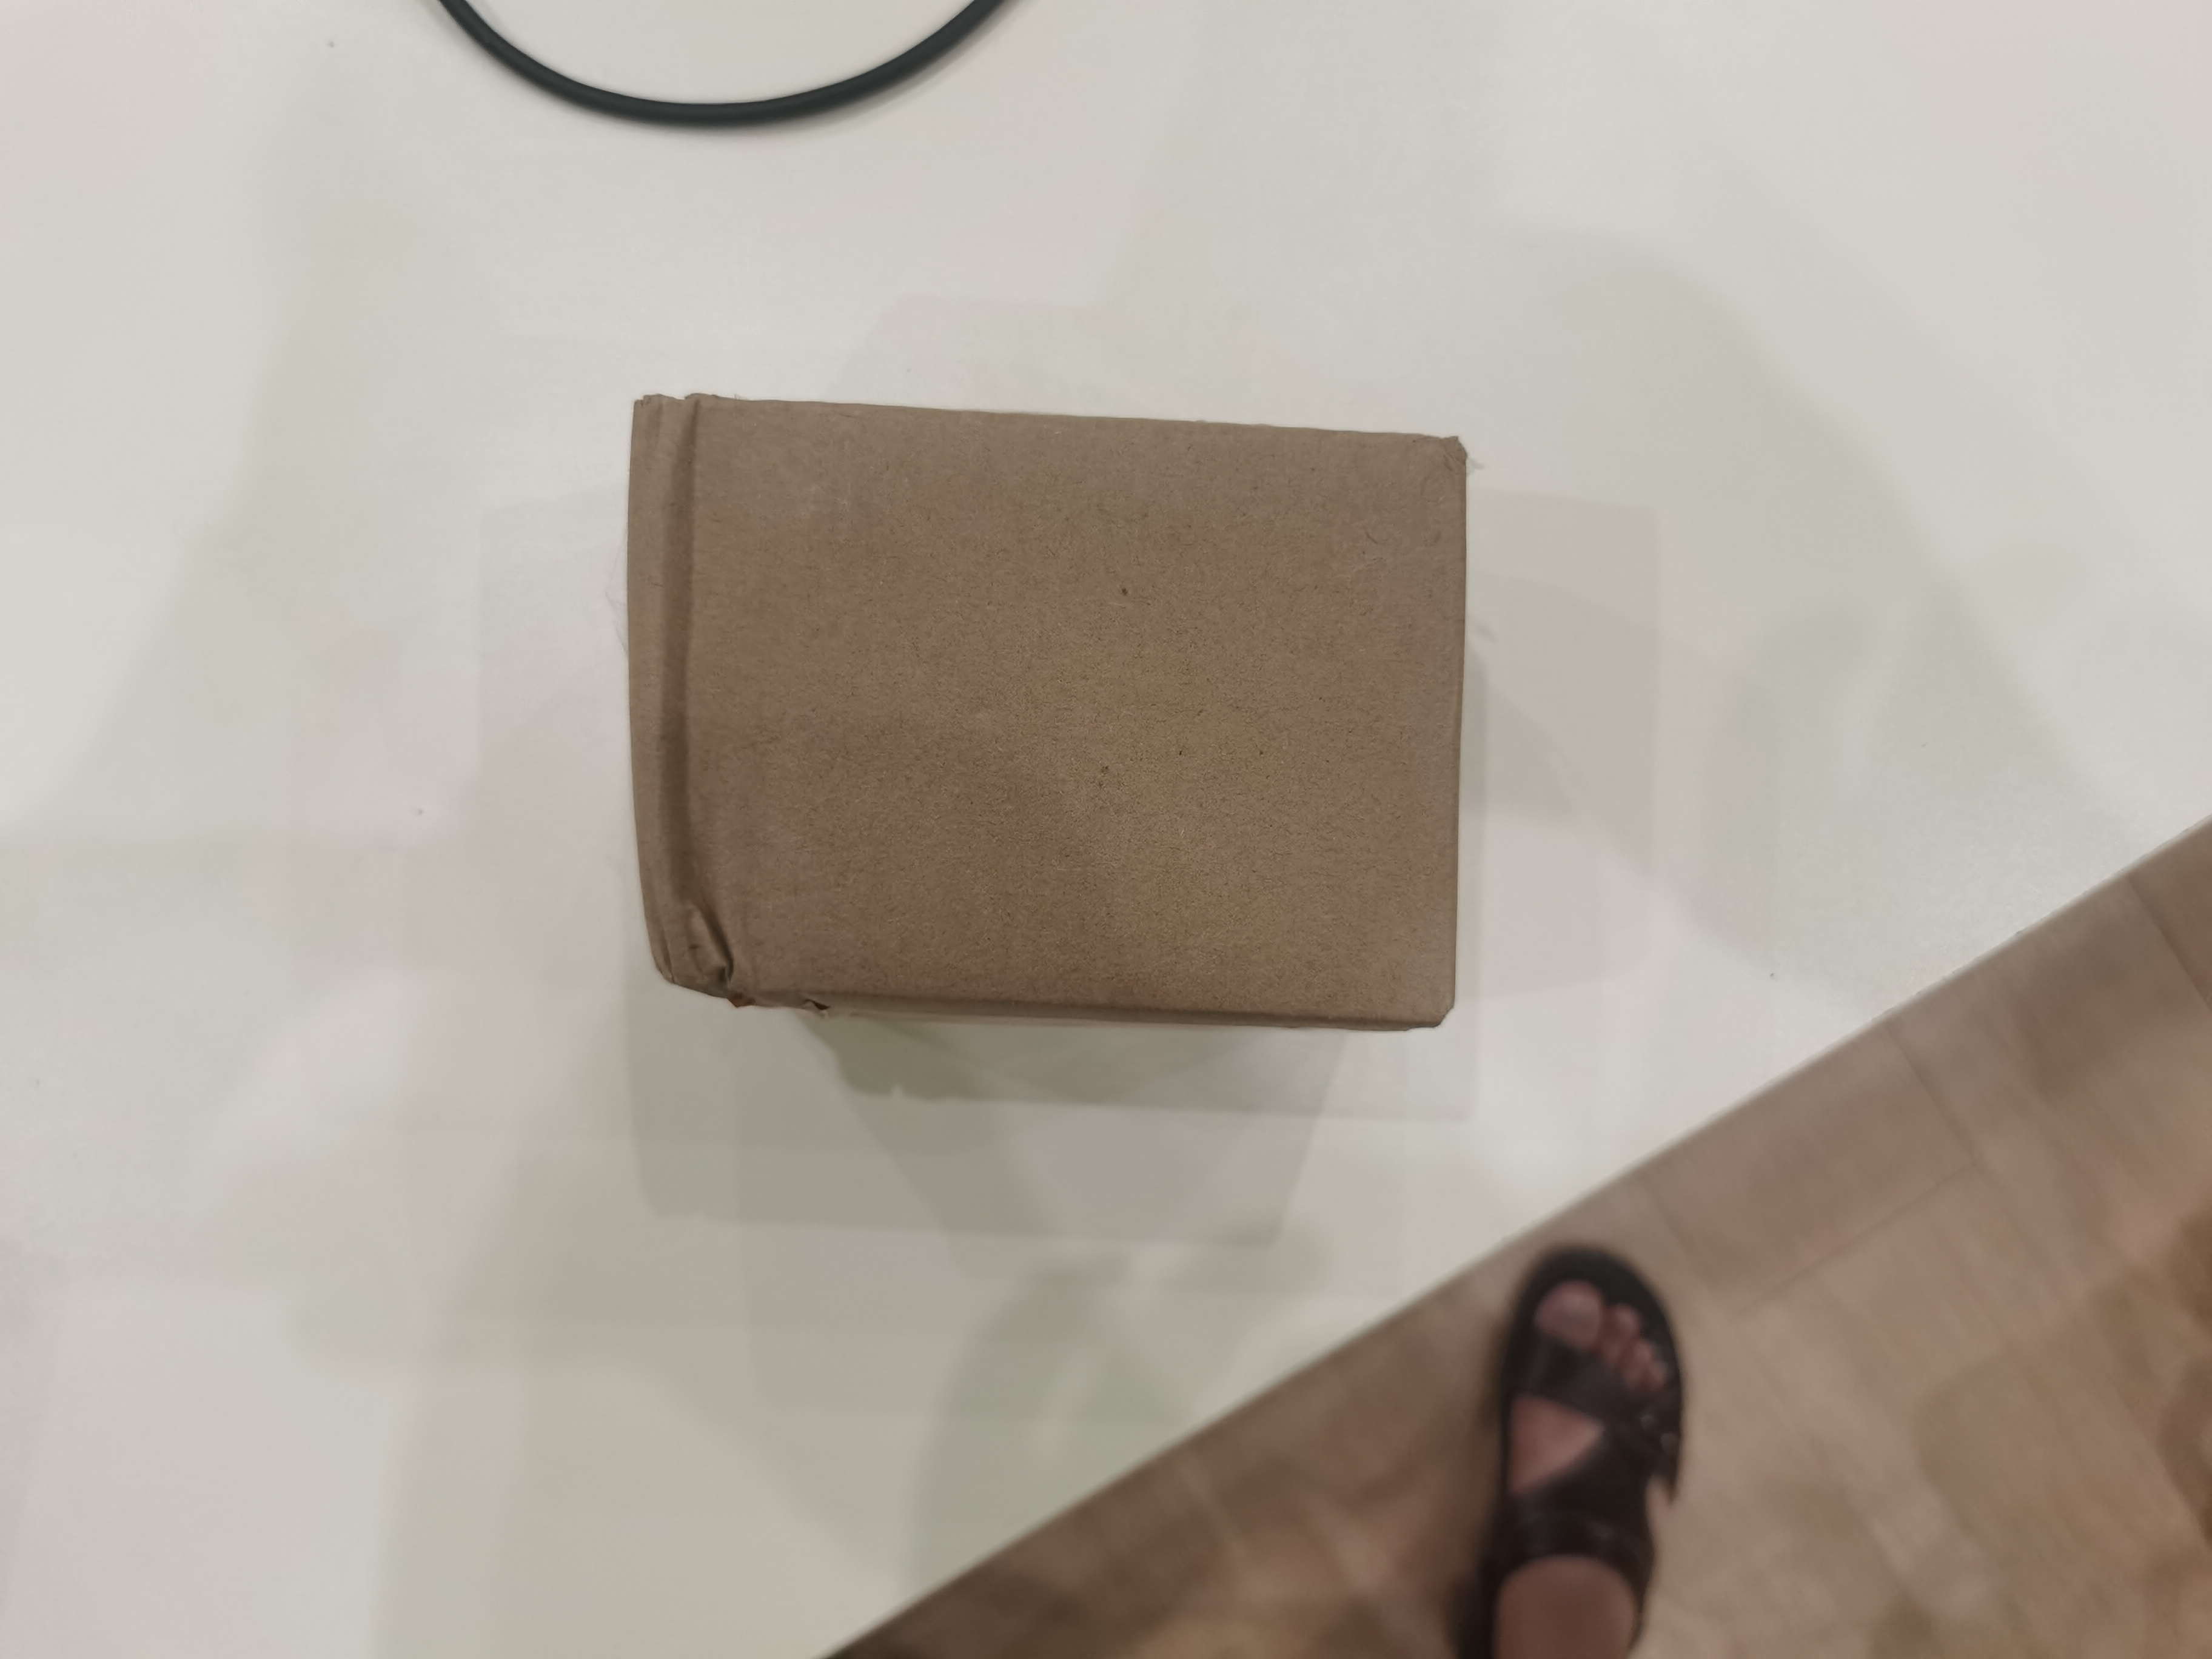box: (524, 359, 1576, 1091)
